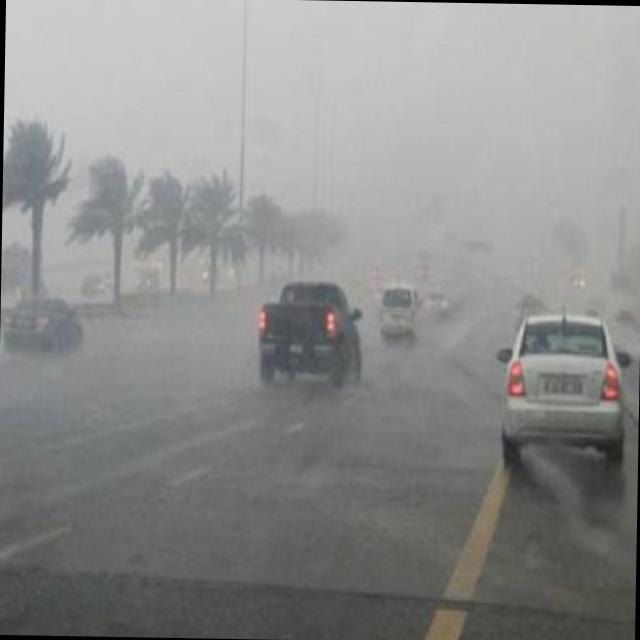car: (498, 312, 627, 469), (254, 279, 365, 389), (3, 296, 85, 355), (377, 282, 420, 342), (424, 288, 448, 317), (82, 270, 105, 292), (136, 266, 158, 288)
